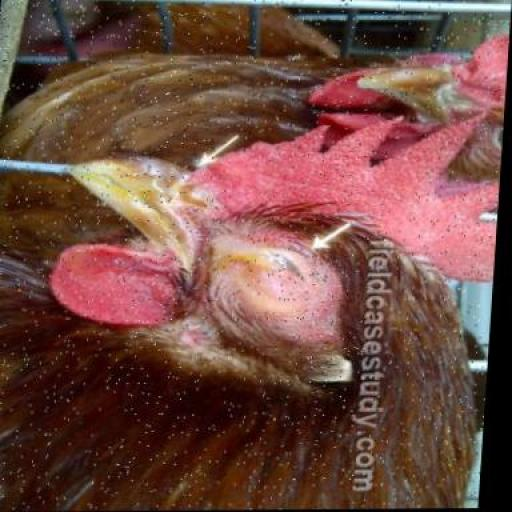disease: (216, 213, 344, 346), (108, 143, 210, 225)
